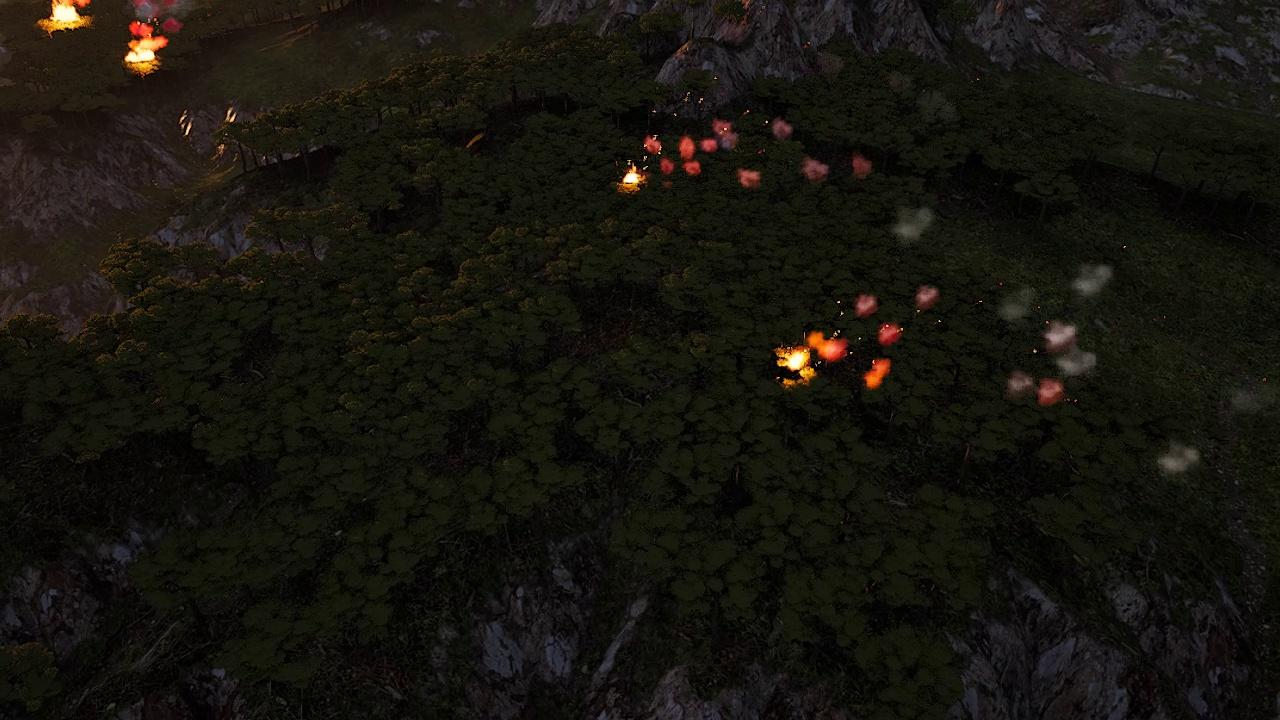fire: (774, 330, 847, 381), (120, 35, 167, 68), (44, 0, 92, 28), (620, 165, 645, 193)
smoke: (993, 256, 1116, 407), (643, 120, 874, 194), (852, 282, 940, 389), (124, 0, 188, 43), (890, 206, 937, 250), (1161, 440, 1205, 477)
